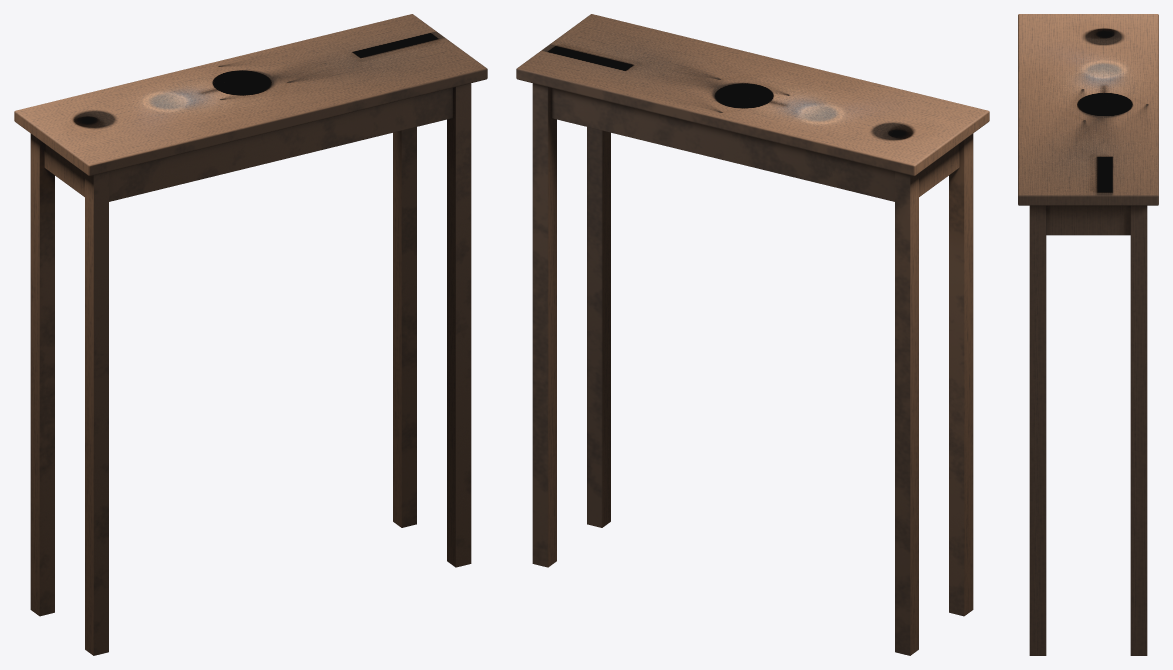
Rendered from 501_hook.glb.
3 renders of one model, left to right at view 1: azimuth 30°, elevation 25°; view 2: azimuth 150°, elevation 25°; view 3: azimuth 270°, elevation 25°, orthographic. The views are drawn at different scales.
Parts seen in each view (by area): view 1: Table; view 2: Table; view 3: Table.
Boxes of the visible parts, left/top/right/bottom form: Table: left=14, top=14, right=487, bottom=655; Table: left=516, top=14, right=989, bottom=655; Table: left=1018, top=14, right=1158, bottom=655.
Size of what is drawn, in the model's own units: 2.6 by 3.1 by 0.85.
Materials: 1 (1 with a texture image).
